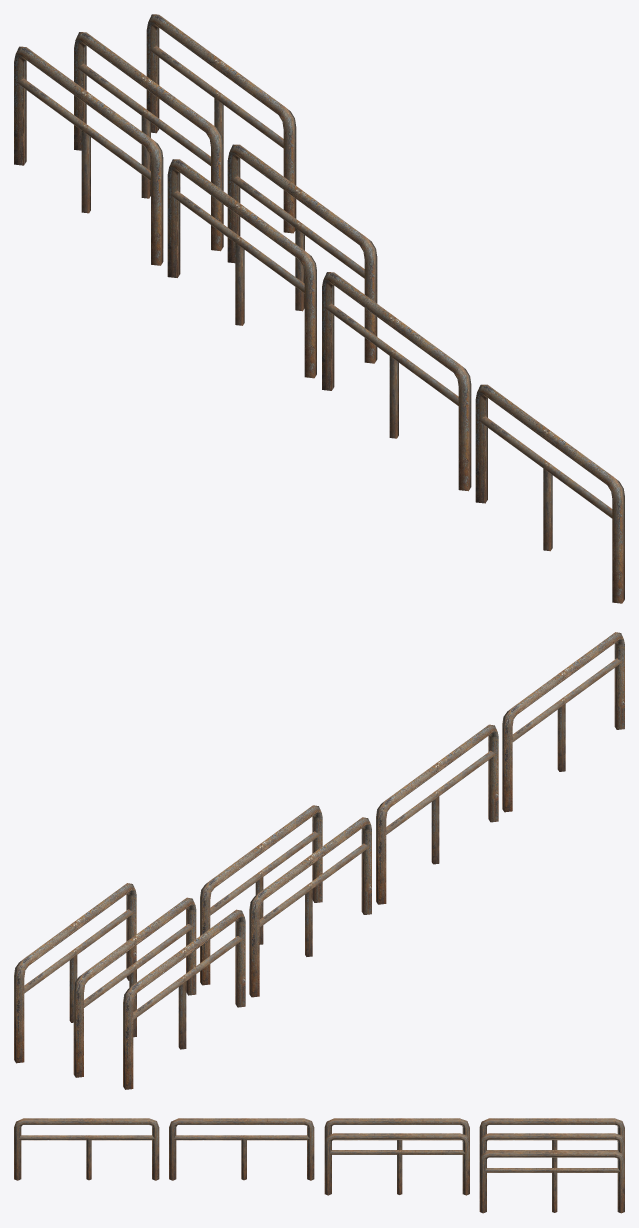
Rendered from Support_set_v1_railing1.FBX.
3 views of the same model, one above another, from view 1: azimuth 30°, elevation 25°; view 2: azimuth 150°, elevation 25°; view 3: azimuth 270°, elevation 25° (orthographic). The views are drawn at different scales.
Visible parts, largest first — view 1: Support_set_v1_railing1_3, Support_set_v1_railing1_2, Support_set_v1_railing1_1; view 2: Support_set_v1_railing1_3, Support_set_v1_railing1_2, Support_set_v1_railing1_1; view 3: Support_set_v1_railing1_3, Support_set_v1_railing1_2, Support_set_v1_railing1_1.
Part boxes in pixels (box(x1,y1,x2,y2)): Support_set_v1_railing1_3: box(14, 46, 624, 603); Support_set_v1_railing1_2: box(74, 32, 377, 363); Support_set_v1_railing1_1: box(146, 14, 296, 233); Support_set_v1_railing1_3: box(123, 632, 624, 1089); Support_set_v1_railing1_2: box(73, 805, 322, 1077); Support_set_v1_railing1_1: box(14, 883, 136, 1063); Support_set_v1_railing1_3: box(14, 1118, 624, 1180); Support_set_v1_railing1_2: box(324, 1133, 624, 1195); Support_set_v1_railing1_1: box(479, 1151, 624, 1213).
Size of the model in its own units: 1.45 by 1.15 by 10.47.
